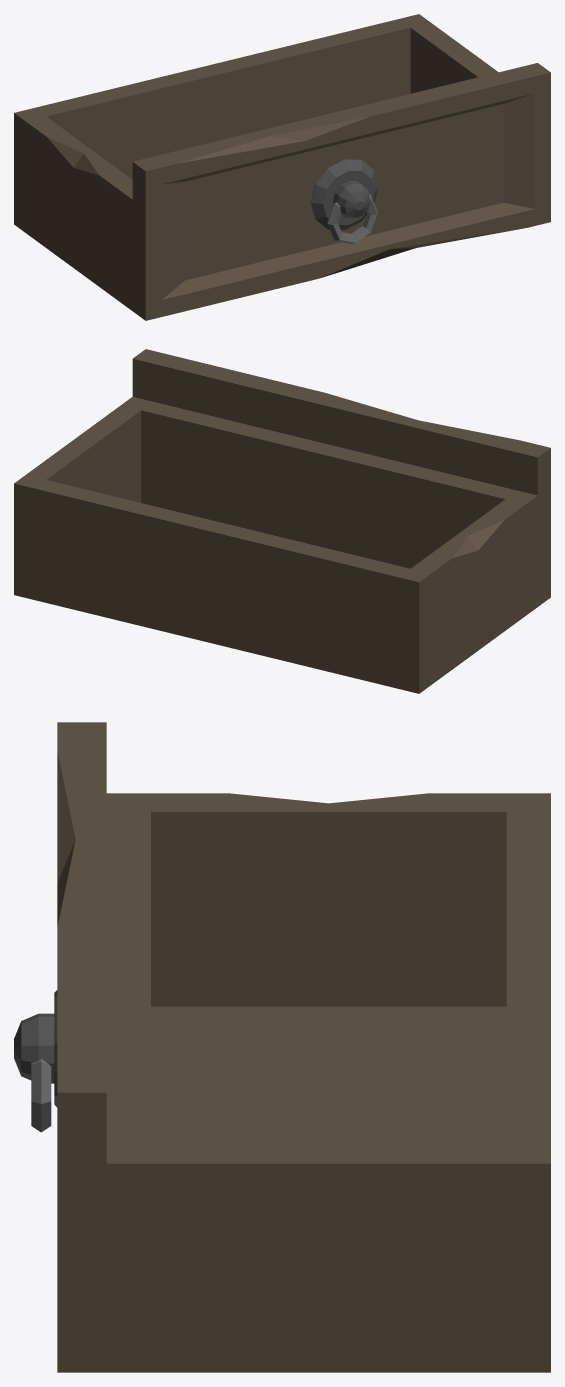
File: Shelving_Cabinet_001.fbx
3 views of the same model, one above another, from view 1: azimuth 30°, elevation 25°; view 2: azimuth 150°, elevation 25°; view 3: azimuth 270°, elevation 25° (orthographic). The views are drawn at different scales.
Parts seen in each view (by area): view 1: Shelving_Cabinet_001; view 2: Shelving_Cabinet_001; view 3: Shelving_Cabinet_001.
Boxes of the visible parts, box(x1,y1,x2,y2) form: Shelving_Cabinet_001: box(14, 14, 550, 320); Shelving_Cabinet_001: box(14, 349, 550, 693); Shelving_Cabinet_001: box(14, 722, 550, 1372).
Size of the model in its own units: 0.428 by 0.151 by 0.2623.
